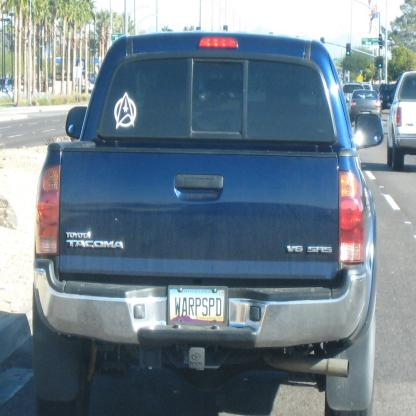Truck: (33, 30, 385, 416), (388, 72, 416, 166)
